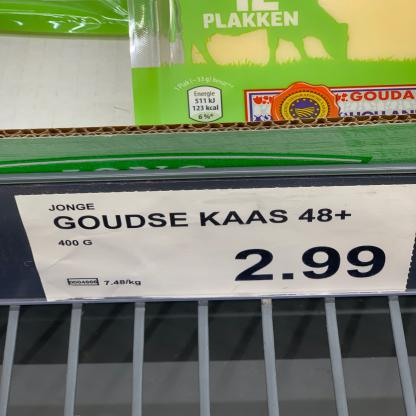prtg: (14, 185, 415, 303)
